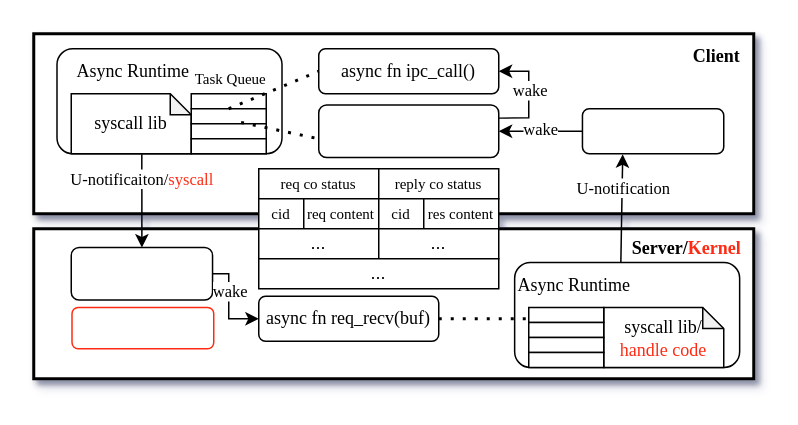
The diagram is 798 pixels wide and 425 high, and some of its shapes have lost their labels. The centre of each missing label's shape, as x and y in pixels:
async fn reply_recv(buf): the point at 408,131
kernel scheduler: the point at 142,327
uintr_handler(): the point at 652,130
uintr_handler()/ syscall handler(): the point at 141,273
